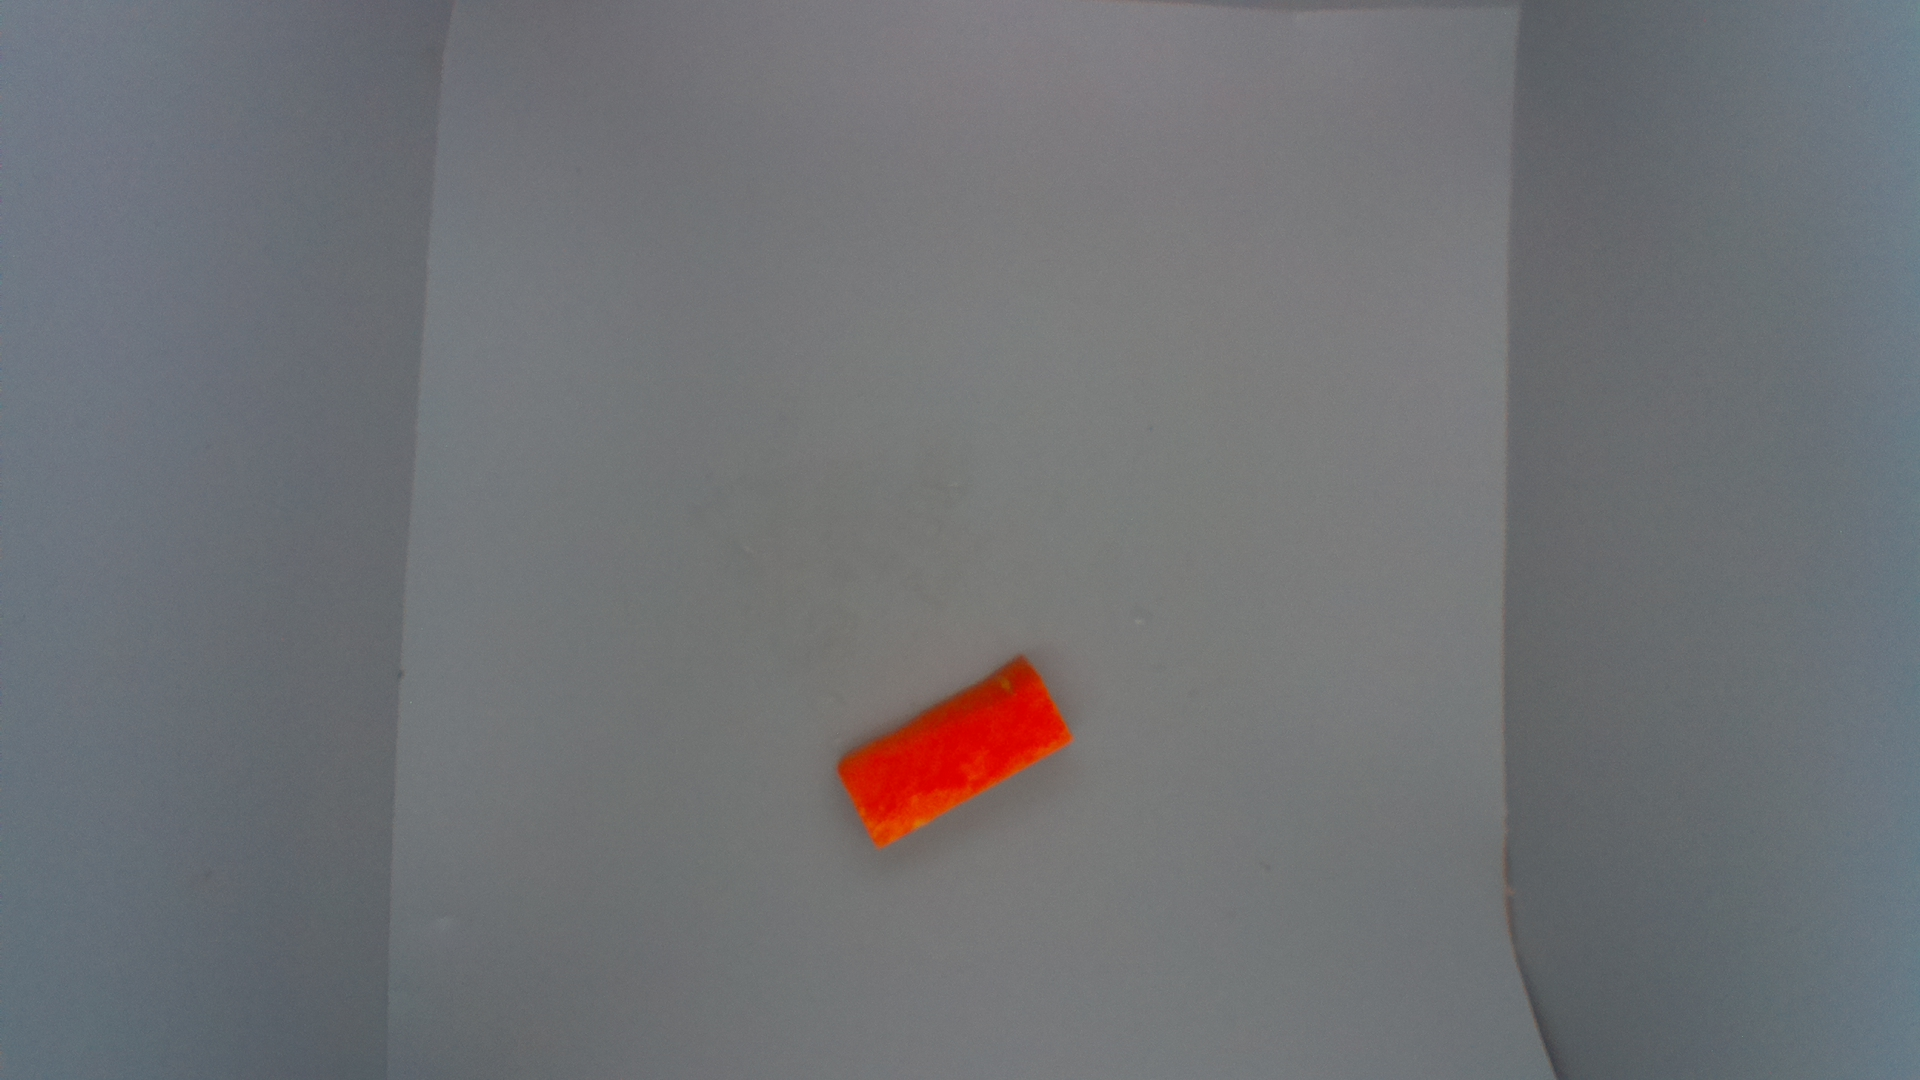carrot: (833, 653, 1077, 851)
